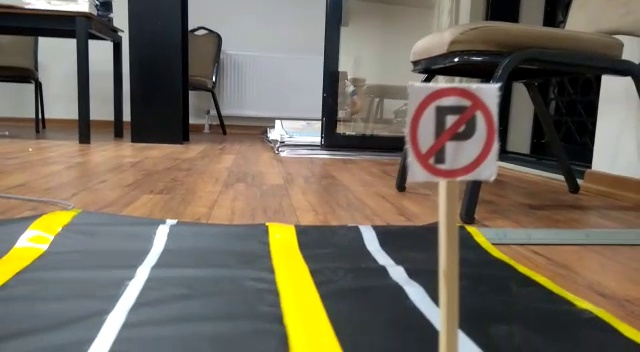park_yapilmaz: (403, 84, 498, 179)
